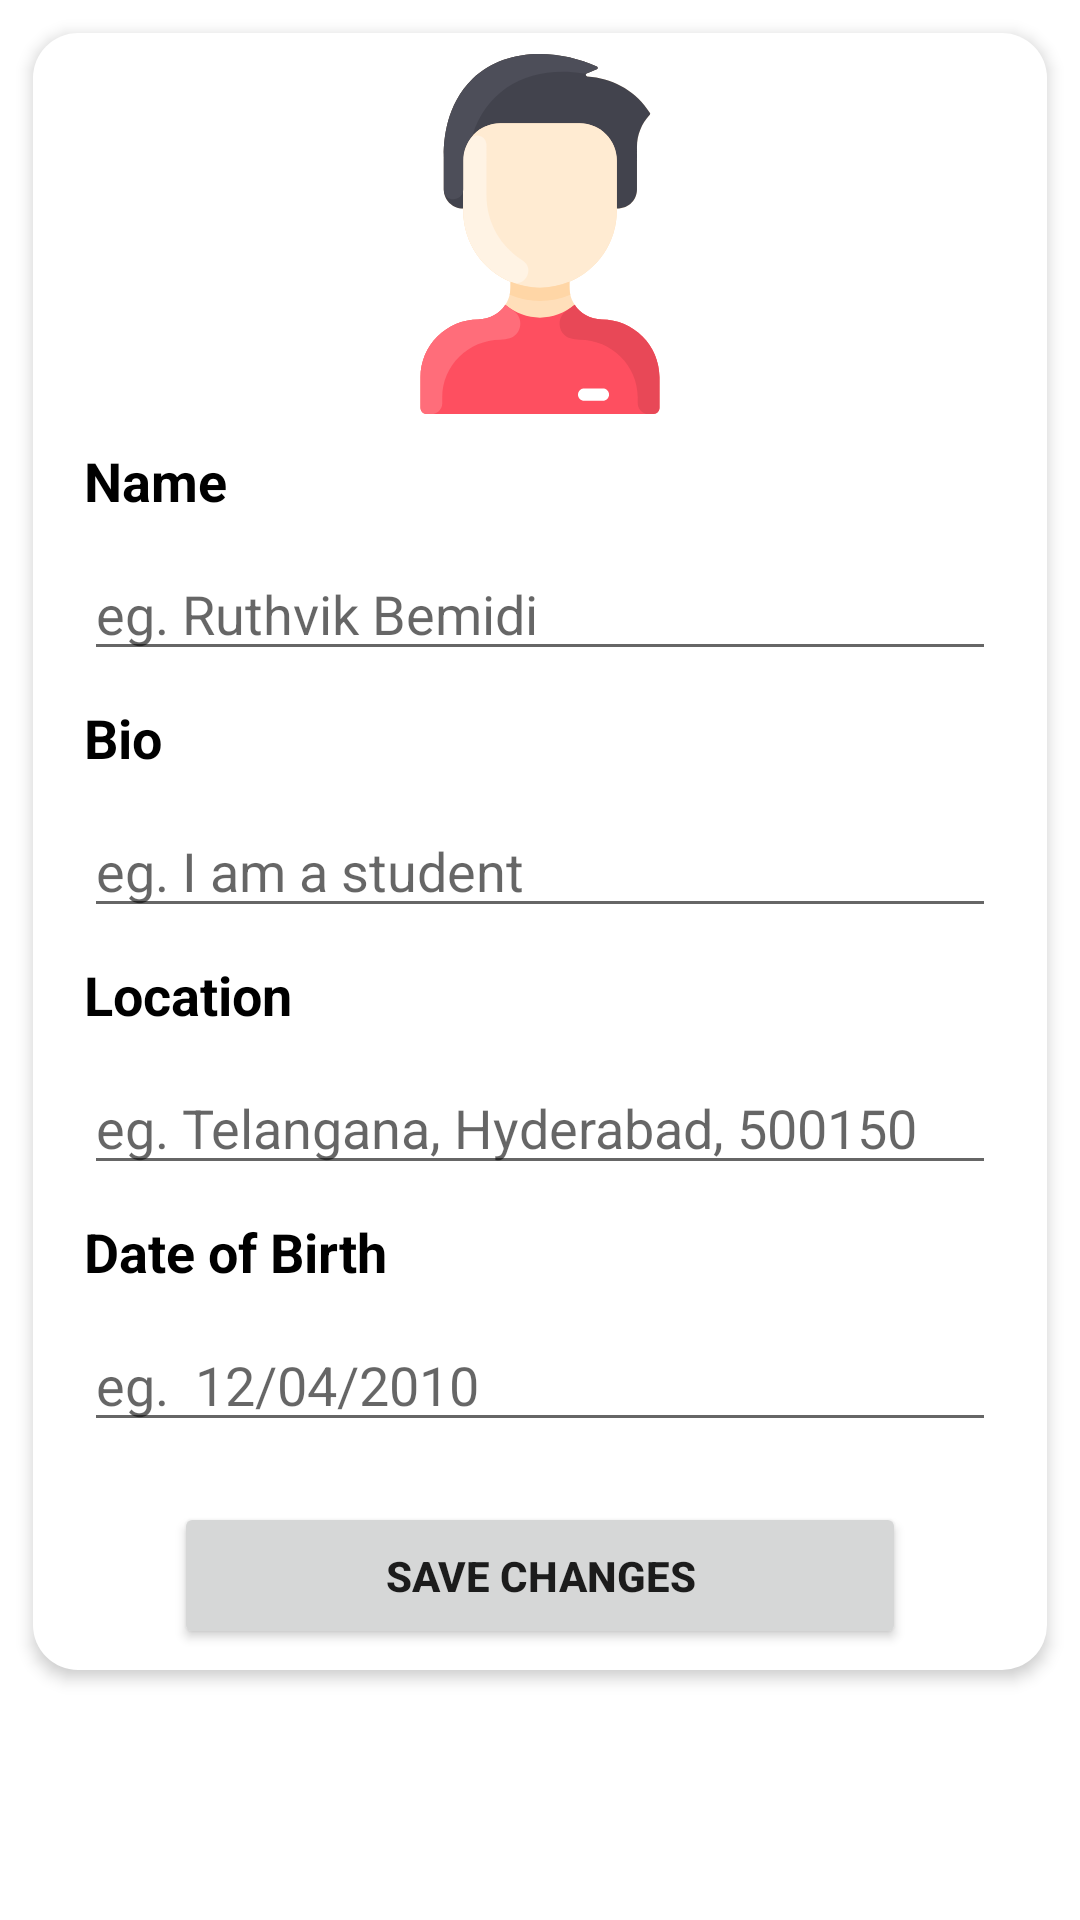

Icon bounding boxes for this 1080x1920 phone screenshot, format (x1, y1, x2, y2):
man: (420, 54, 660, 414)
